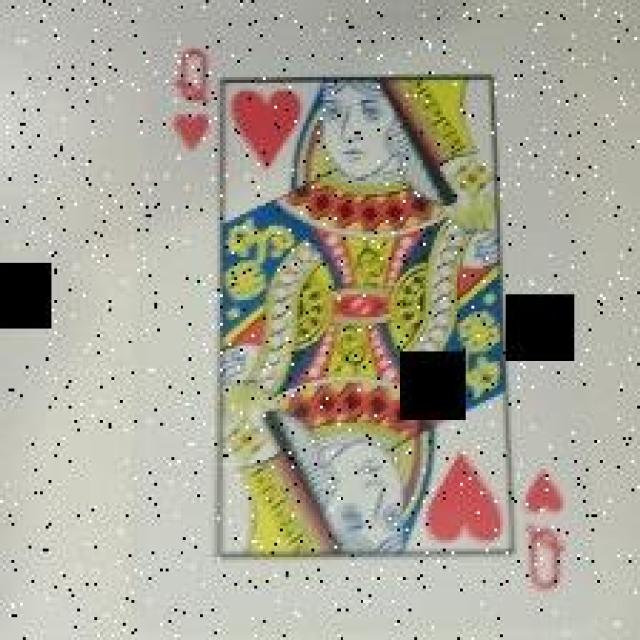Queen of hearts: (150, 32, 576, 600)
